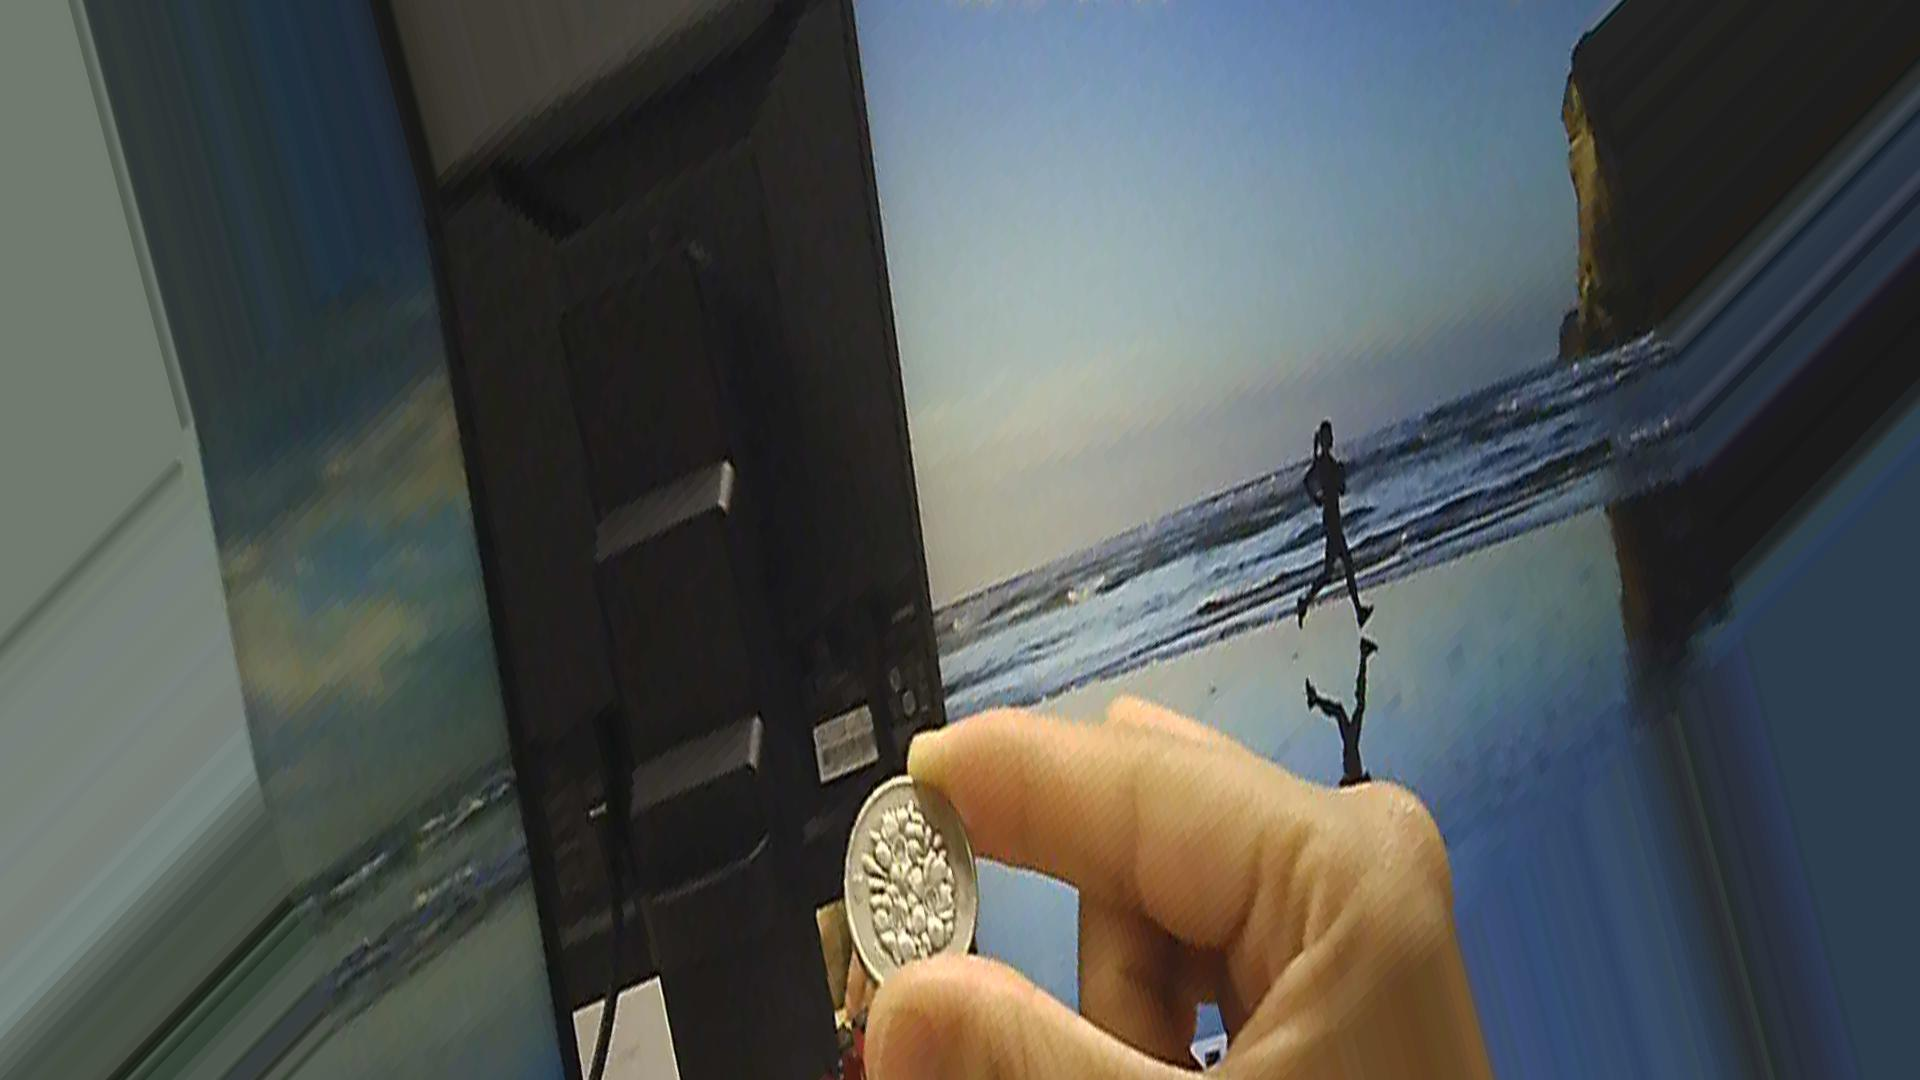100 Yen: (837, 775, 978, 992)
